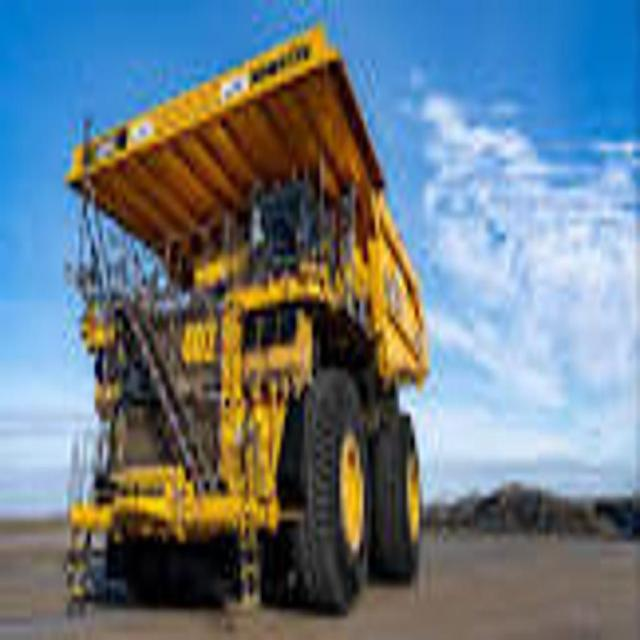dump_truck: (61, 16, 428, 633)
